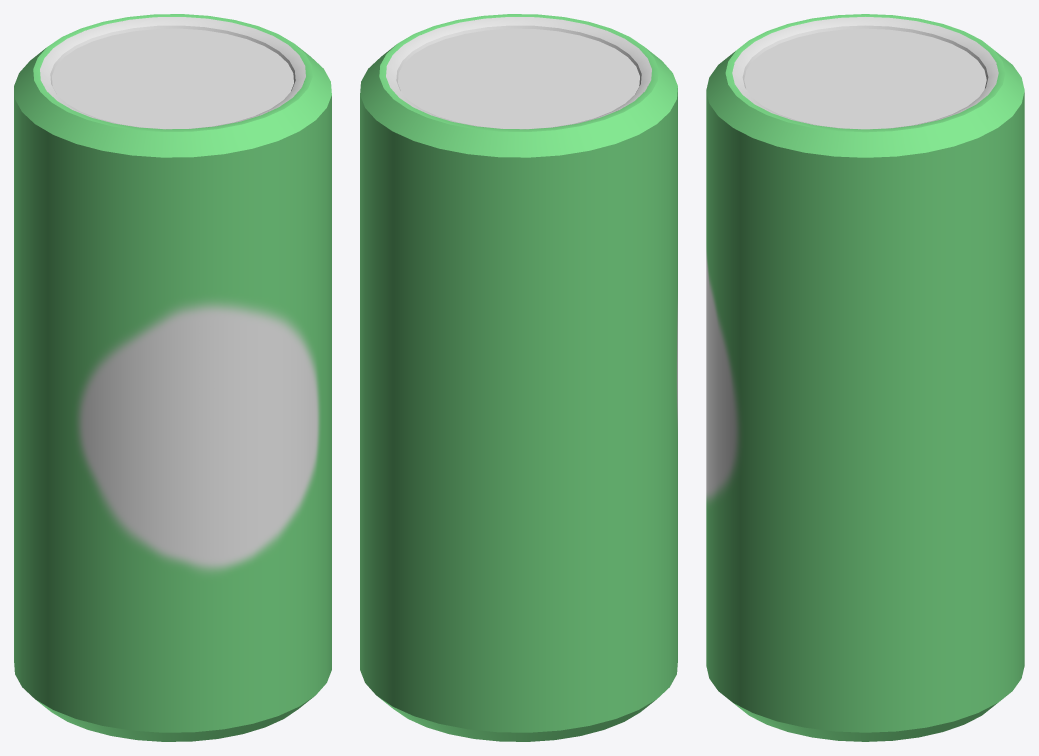
File: can1.glb
3 views of the same model, side by side, from view 1: azimuth 30°, elevation 25°; view 2: azimuth 150°, elevation 25°; view 3: azimuth 270°, elevation 25° (orthographic).
Visible parts, largest first — view 1: Can; view 2: Can; view 3: Can.
Part boxes in pixels (x1,y1,x2,y2): Can: (14, 14, 331, 741); Can: (360, 14, 677, 741); Can: (706, 14, 1024, 741).
Size of the model in its own units: 0.1546 by 0.3266 by 0.1546.
2 materials, 1 textured.
